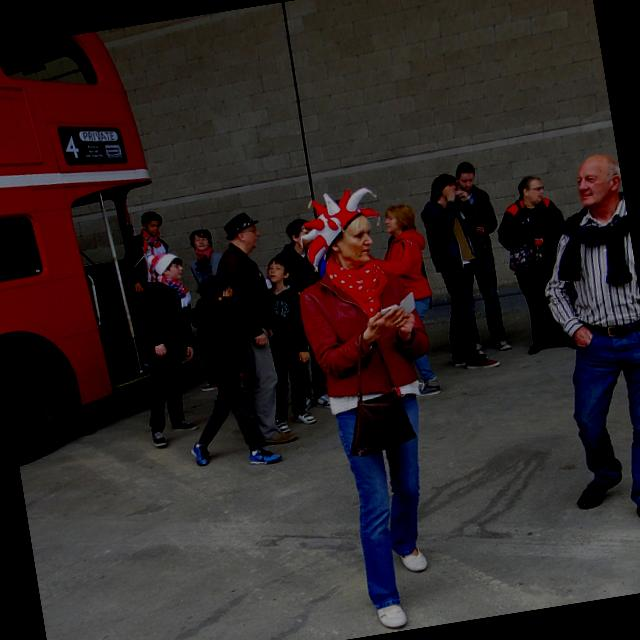Vehicle: (0, 26, 193, 466)
